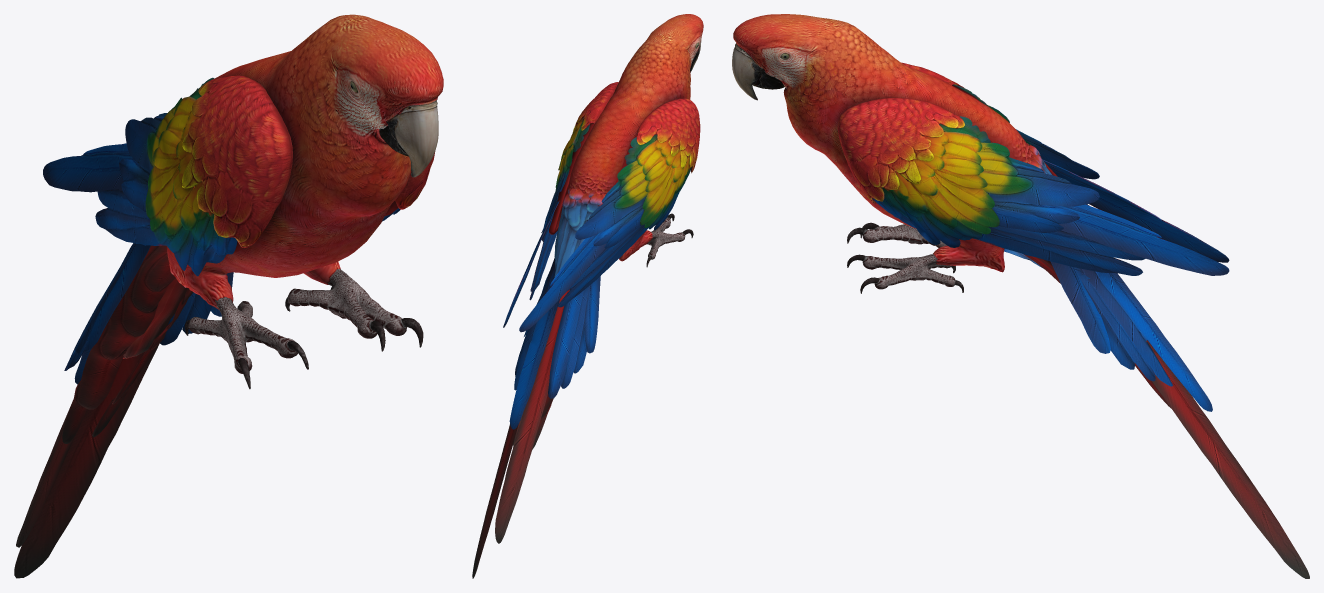
File: LapaRoja.glb
The picture shows the model from 3 angles, left to right: view 1: azimuth 30°, elevation 25°; view 2: azimuth 150°, elevation 25°; view 3: azimuth 270°, elevation 25°; orthographic projection. The views are drawn at different scales.
Parts seen in each view (by area): view 1: Lapa; view 2: Lapa; view 3: Lapa.
Boxes of the visible parts, bbox=[...] form: Lapa: bbox=[14, 14, 443, 578]; Lapa: bbox=[472, 14, 703, 578]; Lapa: bbox=[732, 14, 1309, 578].
Size of the model in its own units: 1.6 by 5.74 by 5.41.
Materials: 1 (1 with a texture image).
